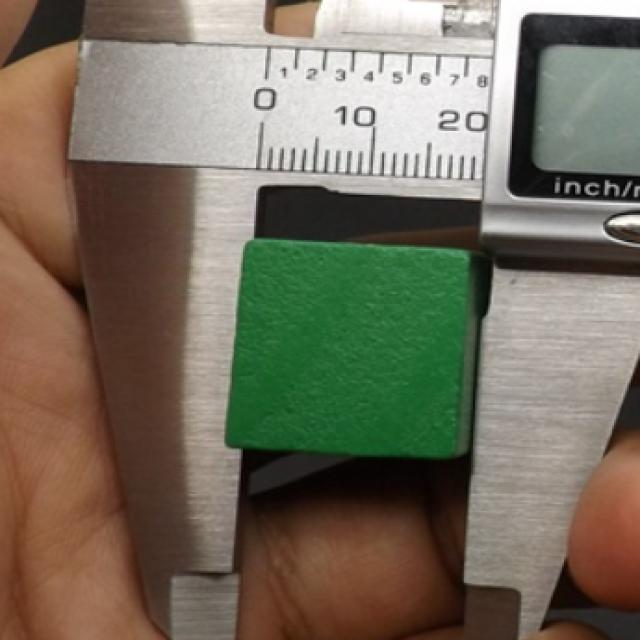green cube: (226, 239, 492, 465)
